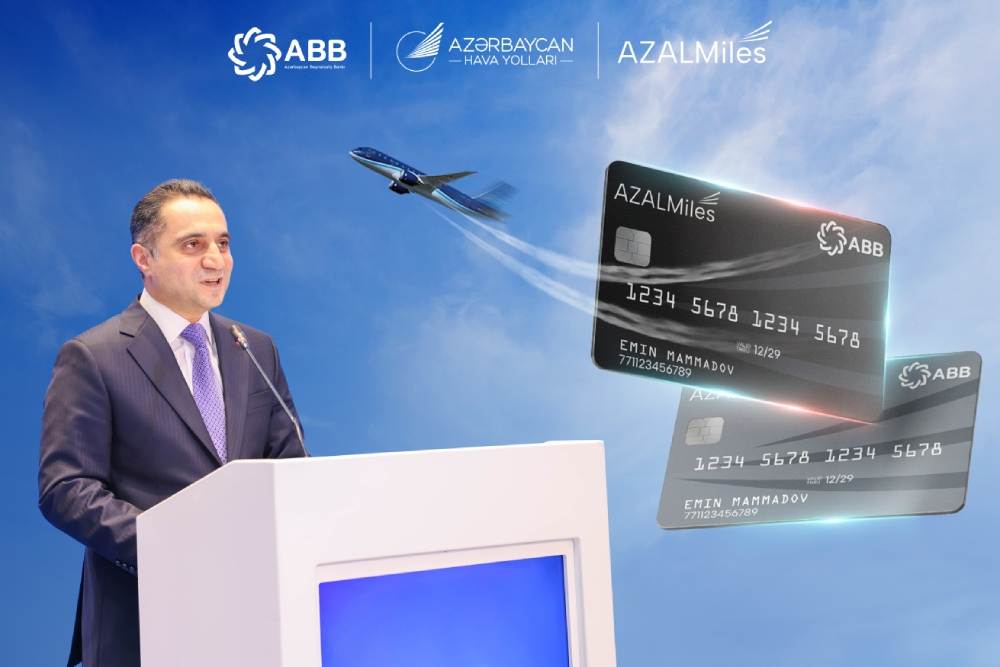ABB: (226, 25, 283, 83), (815, 219, 849, 256), (896, 361, 932, 392)
